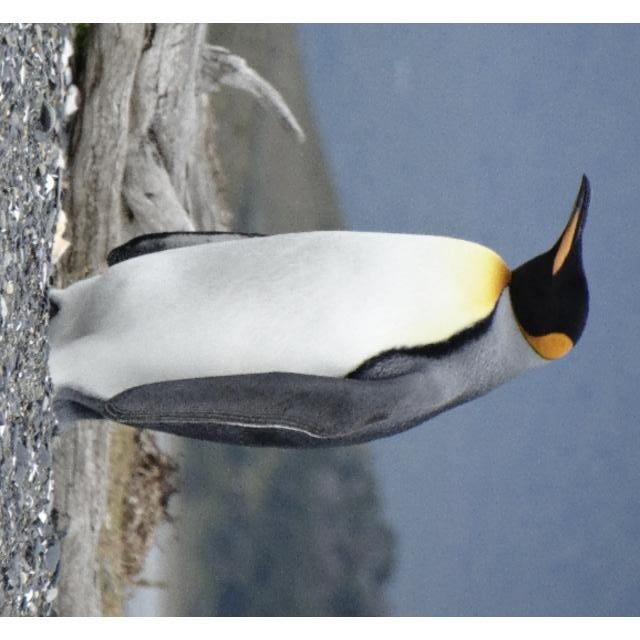penguin: (35, 172, 590, 451)
